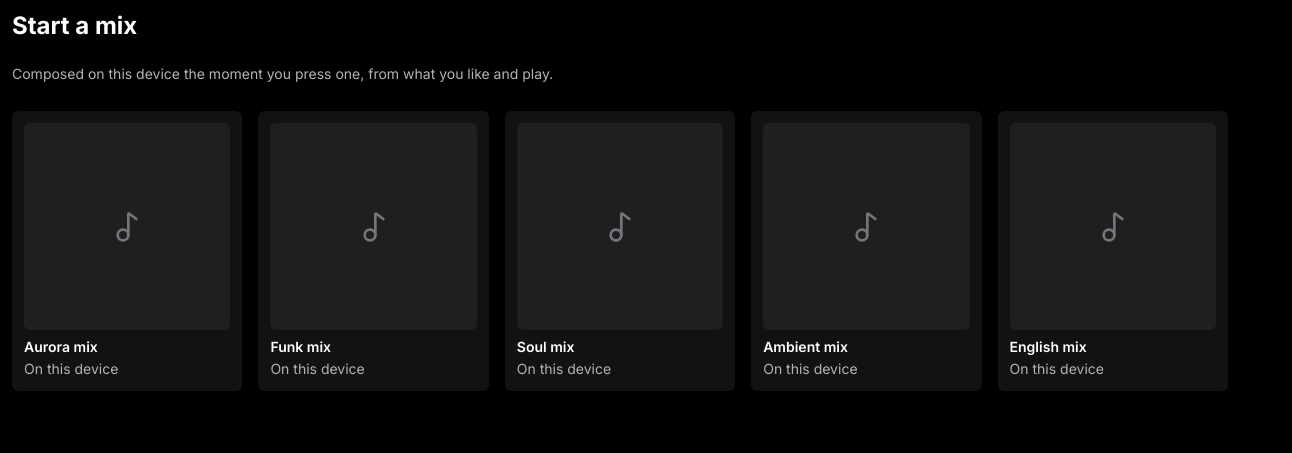
Test case: MixCards: an empty mix is explained rather than silently inert › explains an empty feed, starts nothing, and leaves the card usable
Click the button with test id "mix-card" showing "Aurora mix On this device": (127, 251) [12,111,242,391]
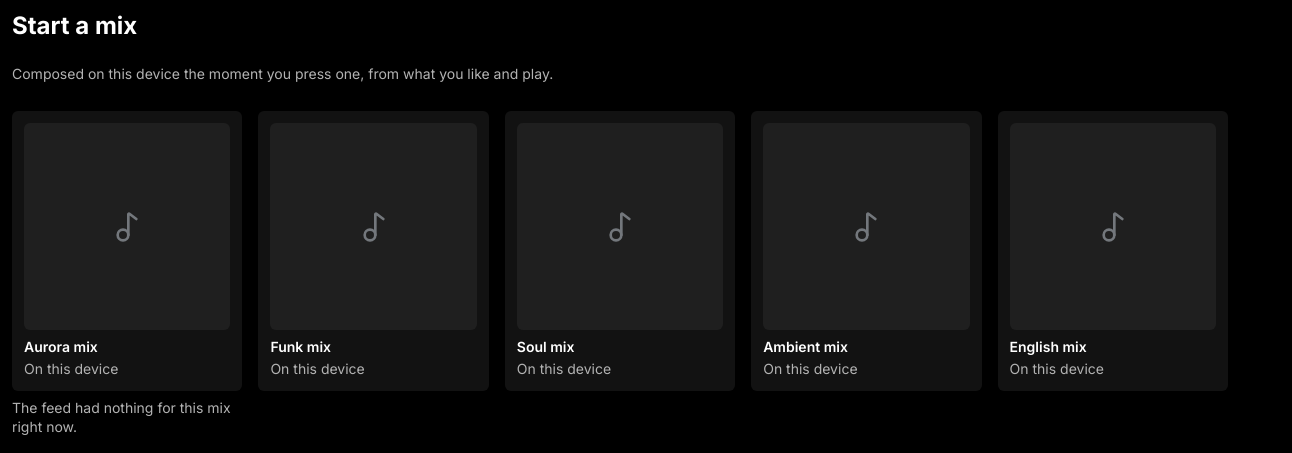
expect the message "The feed had nothing for this mix right now." is shown: met, box [12,399,242,436]
expect the message with test id "mix-card-notice" reads "The feed had nothing for this mix right now.": met, box [12,399,231,435]
